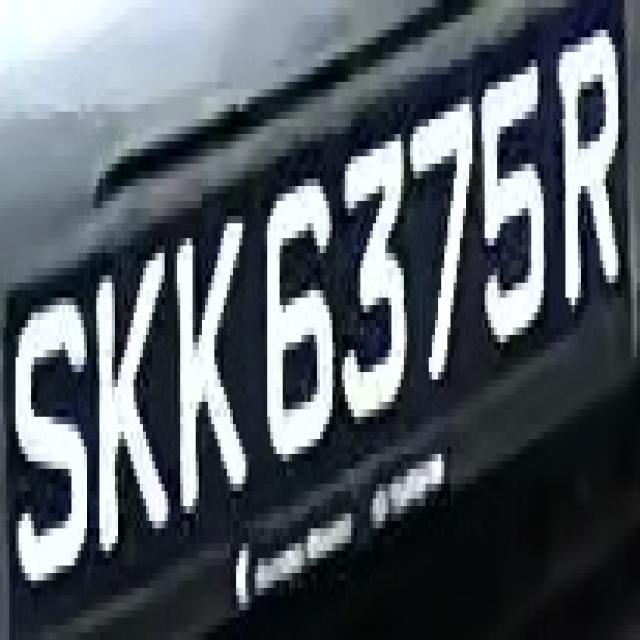3: (332, 119, 407, 424)
5: (466, 45, 550, 357)
6: (248, 156, 338, 476)
7: (391, 90, 488, 394)
K: (93, 215, 177, 566), (168, 201, 248, 536)
R: (546, 22, 630, 328)
S: (15, 268, 80, 603)
